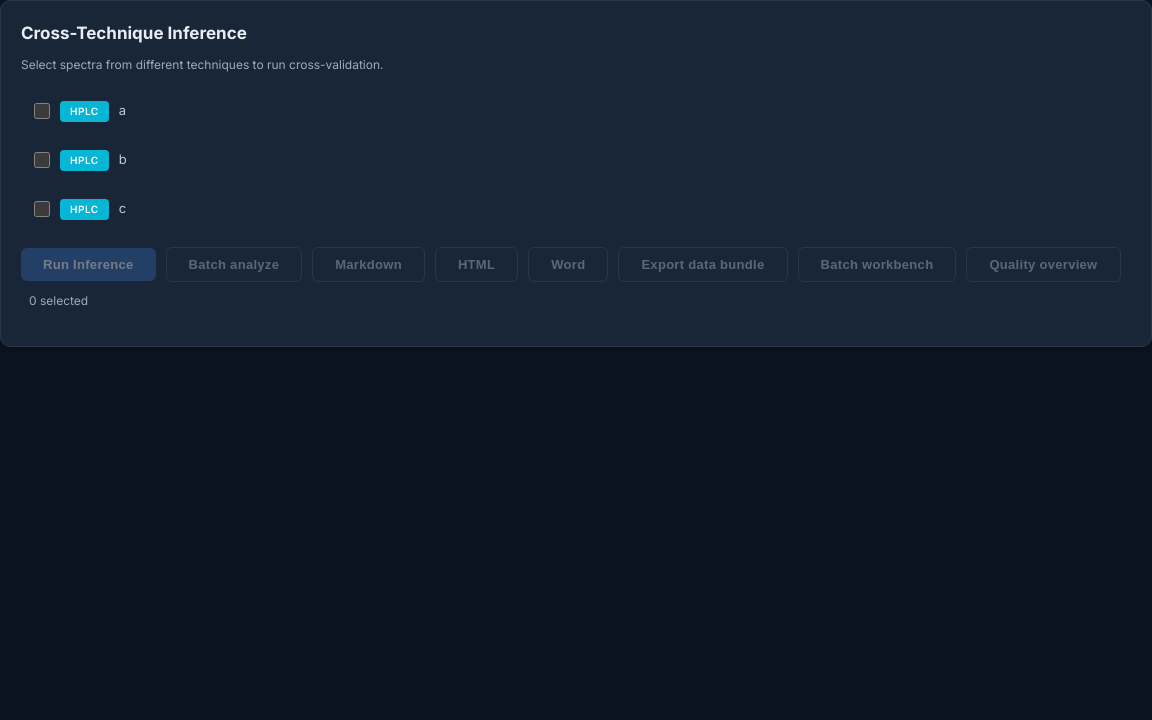
Test: ignores a late failure after leaving and returning to the same selection
The image size is (1152, 720).
Click the checkbox labelled "HPLC a". click: click(42, 111)
box: [34,103,50,119]
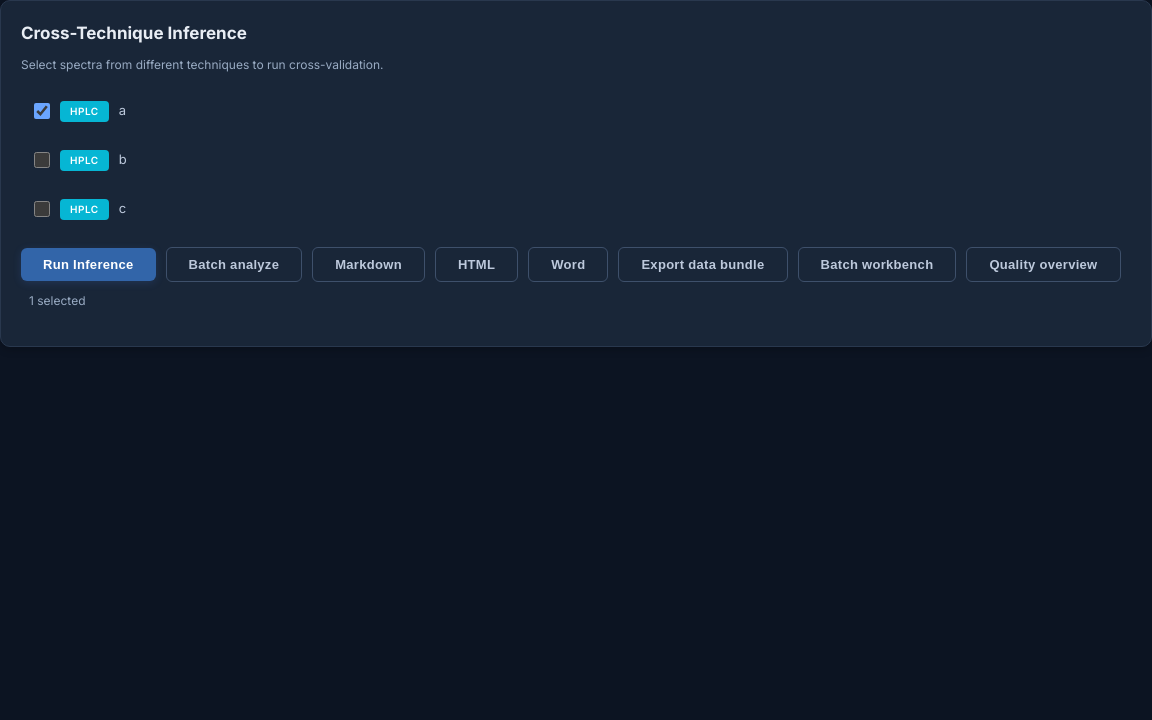
Click the checkbox labelled "HPLC b". click: click(42, 160)
box: [34,152,50,168]
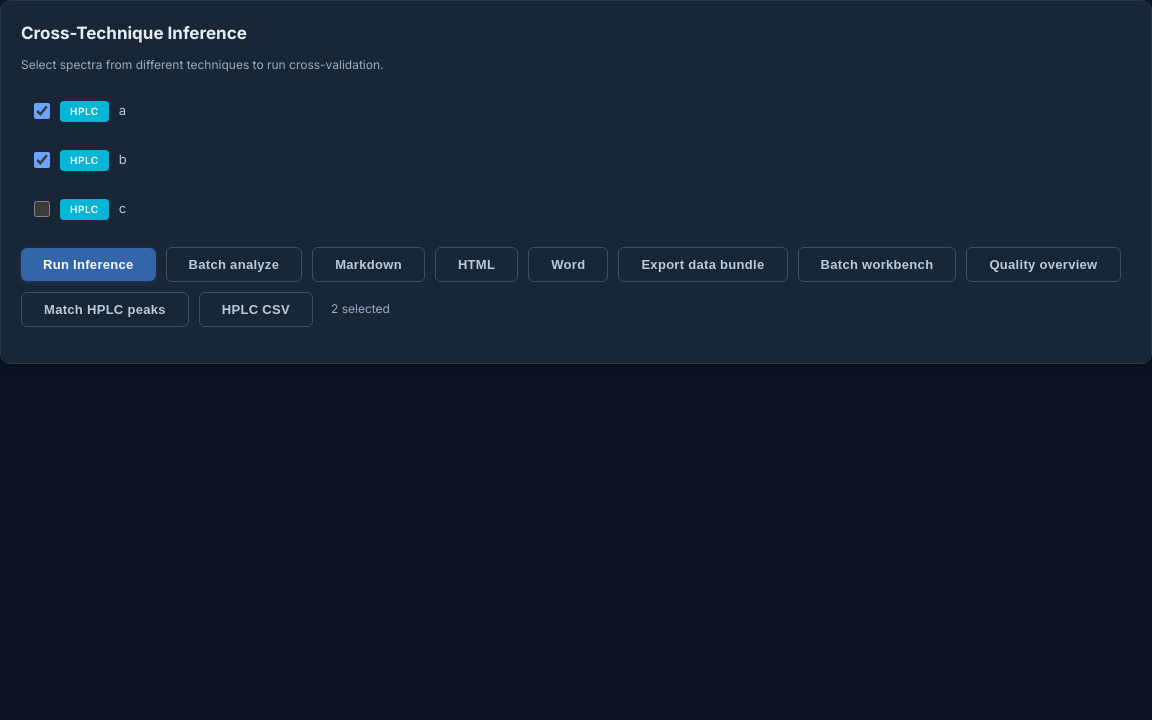
Click the button "Run Inference". click: click(88, 264)
box: [21,248,156,281]
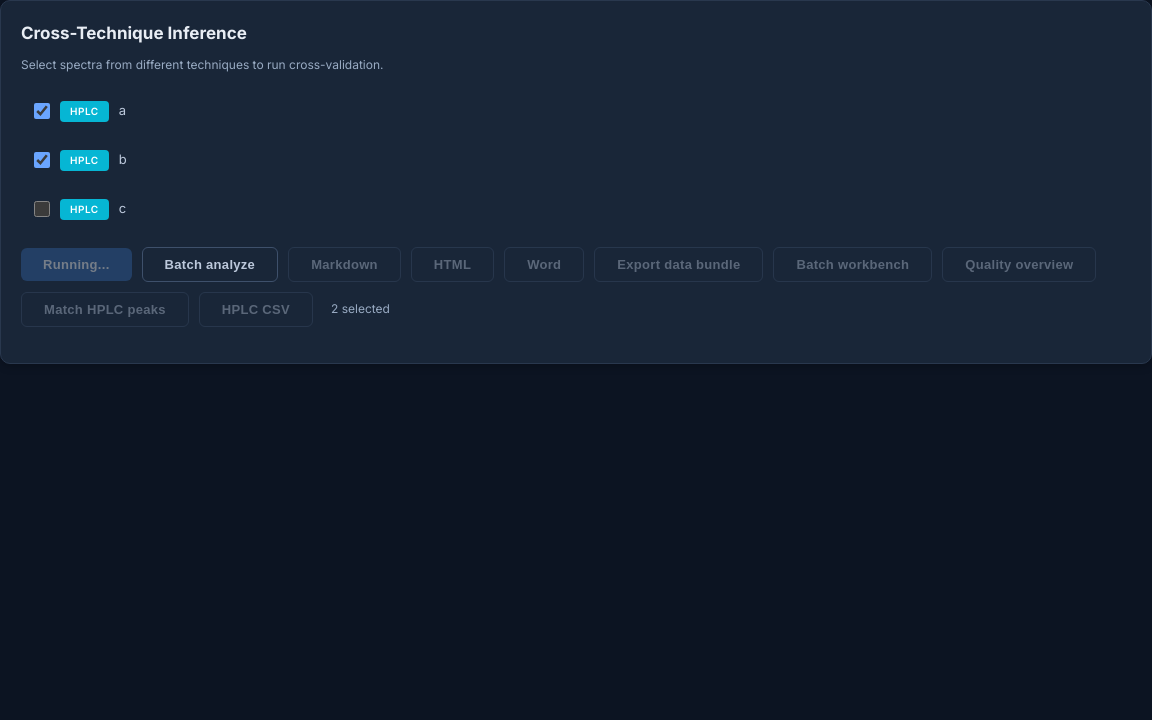
Click the checkbox labelled "HPLC b". click: click(42, 160)
box: [34,152,50,168]
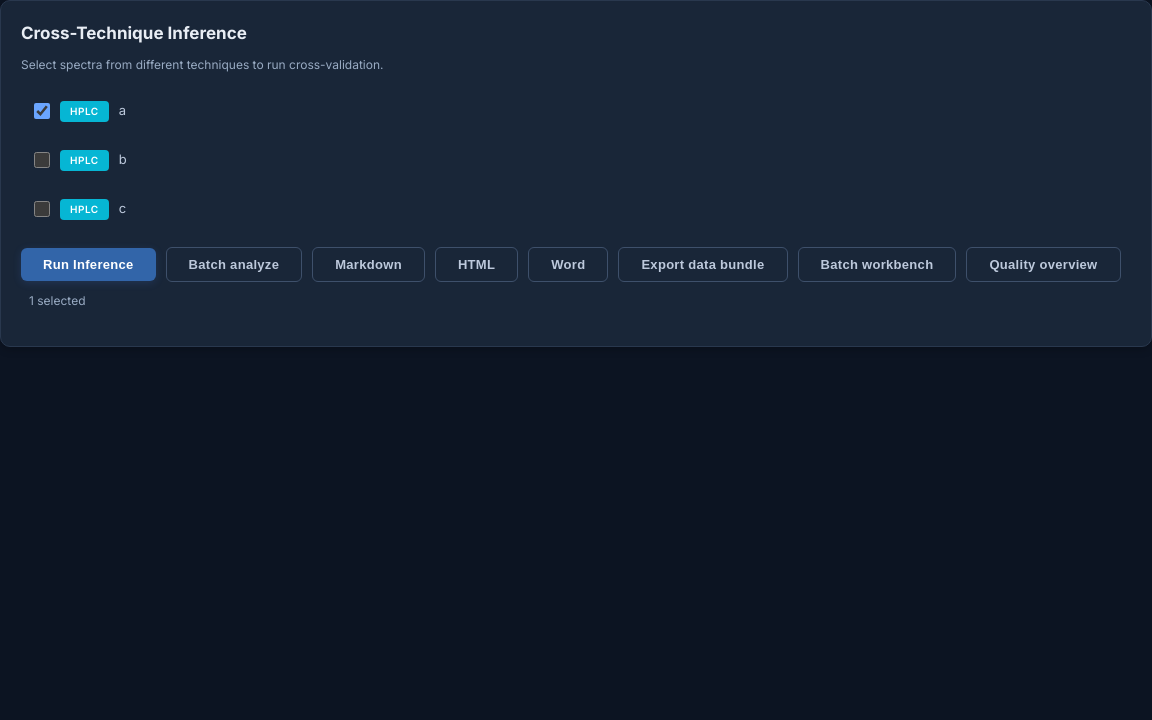
Click the checkbox labelled "HPLC b". click: click(42, 160)
box: [34,152,50,168]
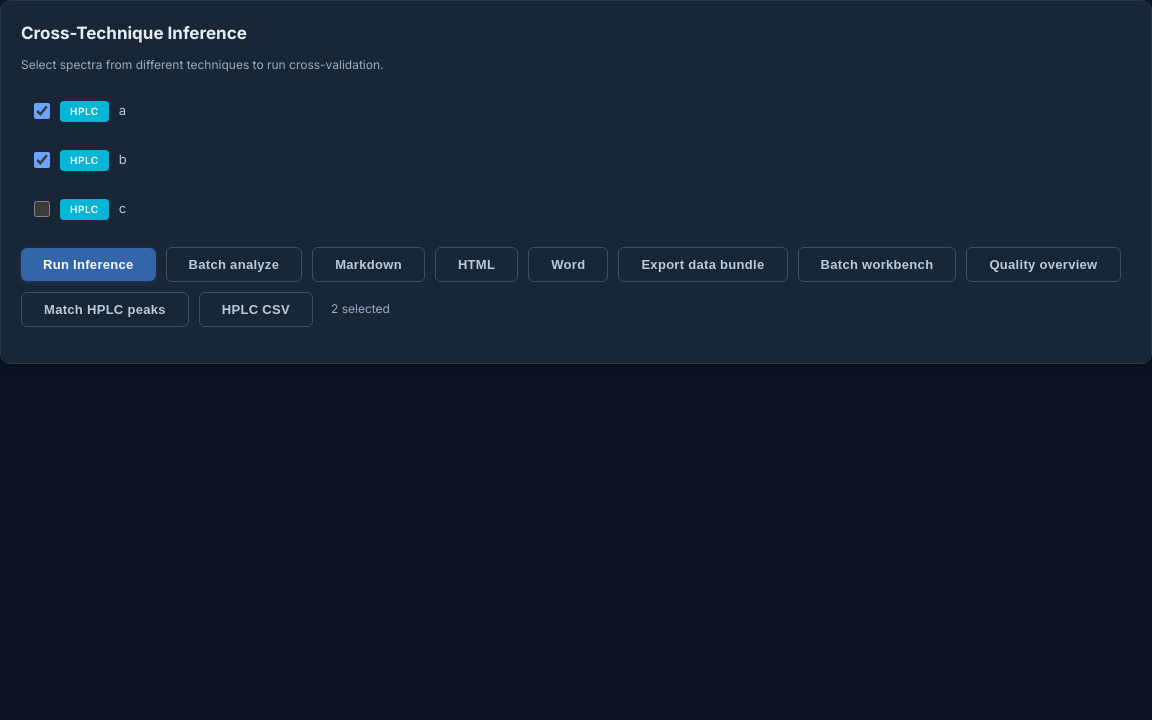
Click the button "Run Inference". click: click(88, 264)
box: [21,248,156,281]
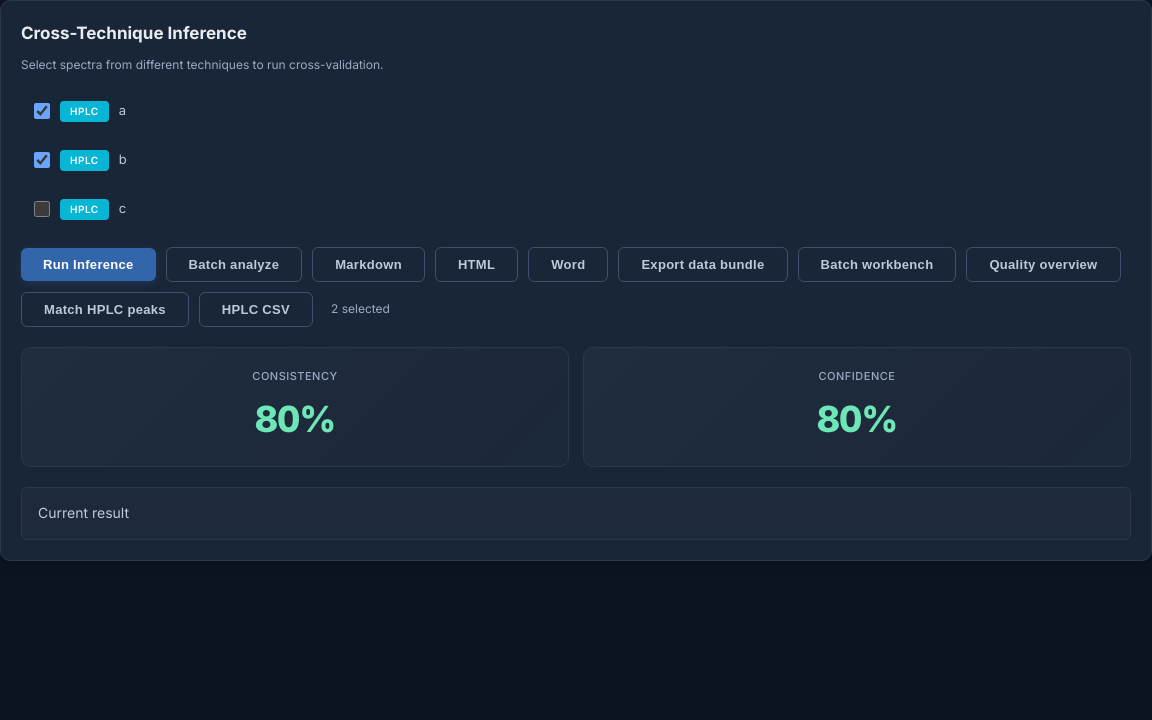
Expected: the text "Current result" is shown, [21,487,1131,540]
